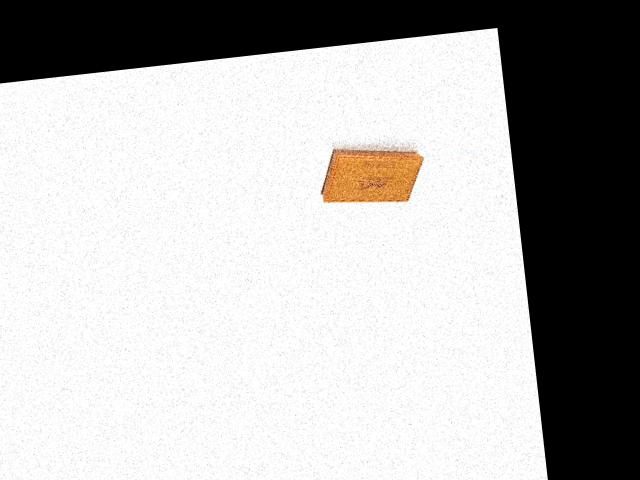chocolate: (313, 130, 427, 214)
